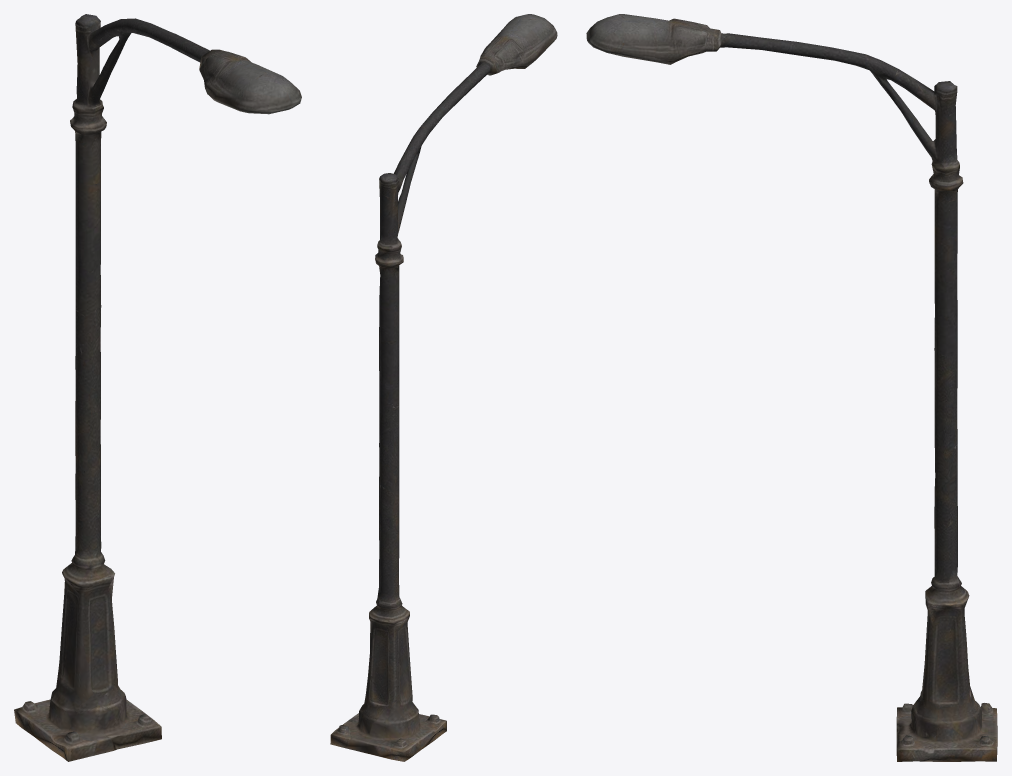
The model's file is lamparas.opt.glb.
3 renders of one model, left to right at view 1: azimuth 30°, elevation 25°; view 2: azimuth 150°, elevation 25°; view 3: azimuth 270°, elevation 25°, orthographic. The views are drawn at different scales.
Bounding box in the file's own units: 0.2397 × 1.9 × 0.9781.
1 material, 1 textured.
